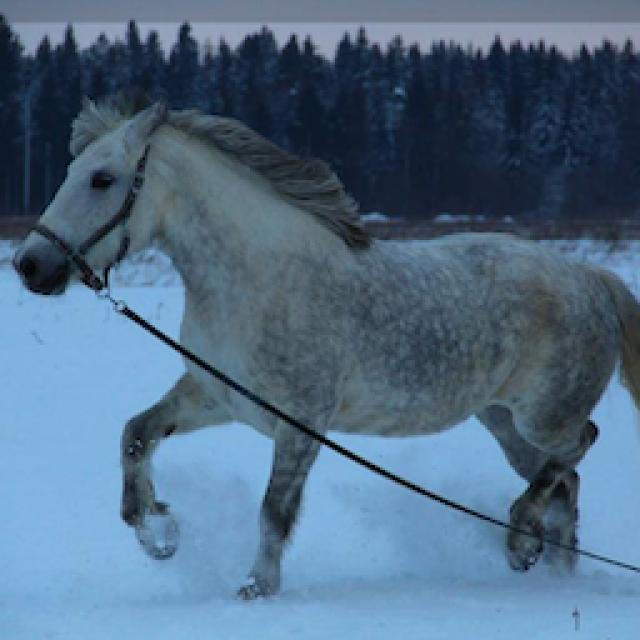Horse: (8, 87, 638, 605)
